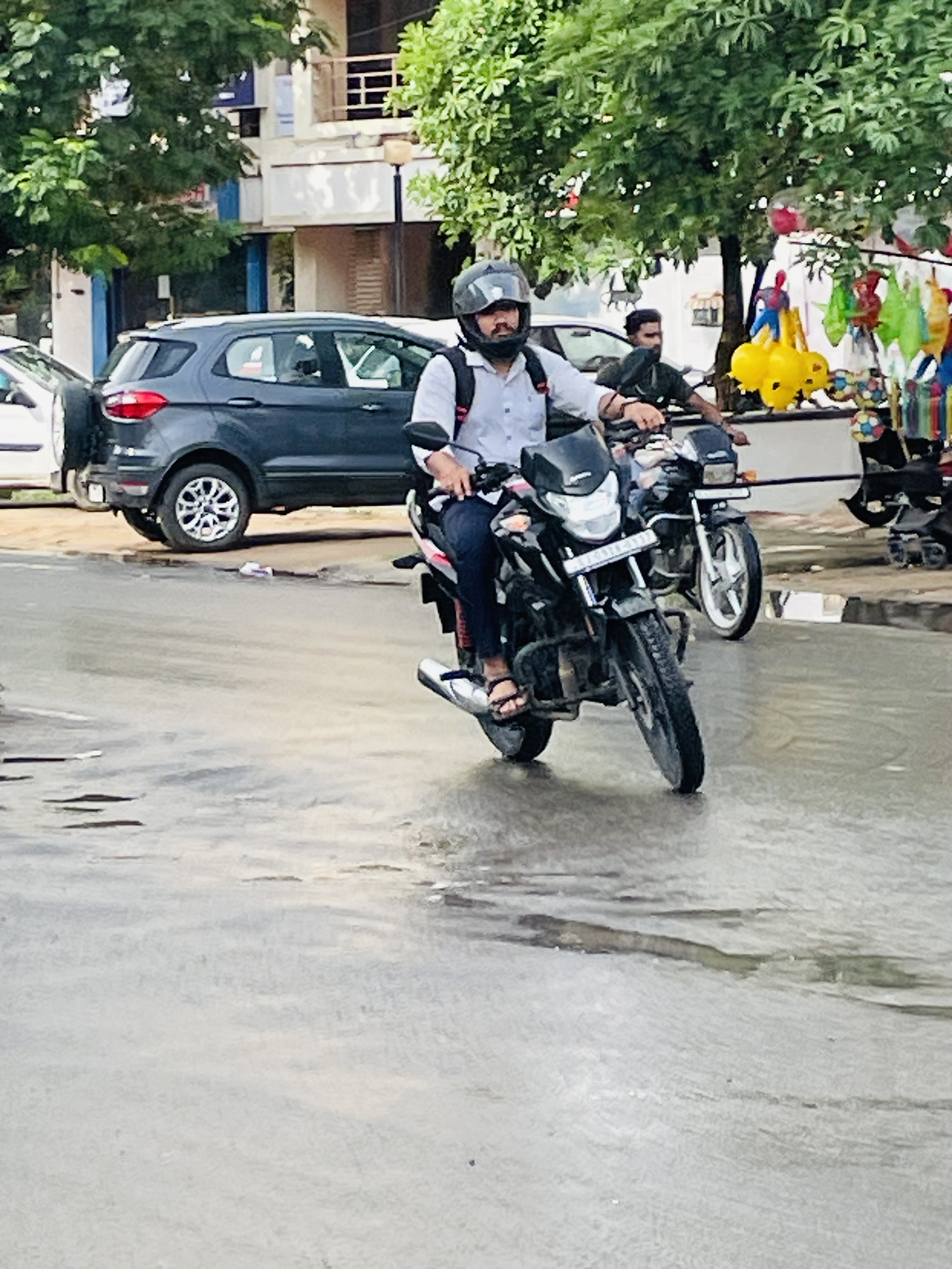BikeWithRider: (381, 251, 719, 801), (580, 296, 776, 648)
Helmet: (439, 253, 549, 363)
NoHelmet: (619, 302, 675, 364)
